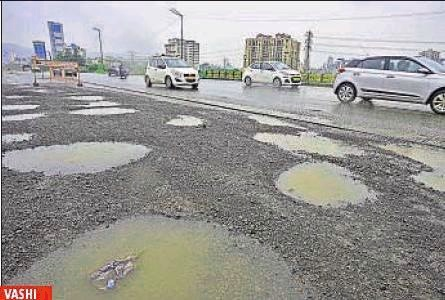pothole: (0, 209, 312, 298), (0, 136, 152, 176), (272, 159, 374, 207), (253, 126, 358, 157), (69, 104, 134, 115), (164, 111, 203, 126), (0, 100, 42, 110), (0, 110, 44, 119), (65, 92, 104, 99)
